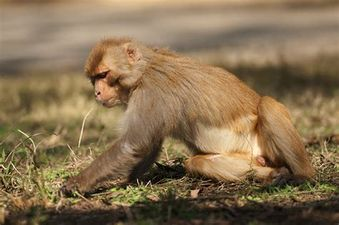monkey: (46, 9, 317, 222)
